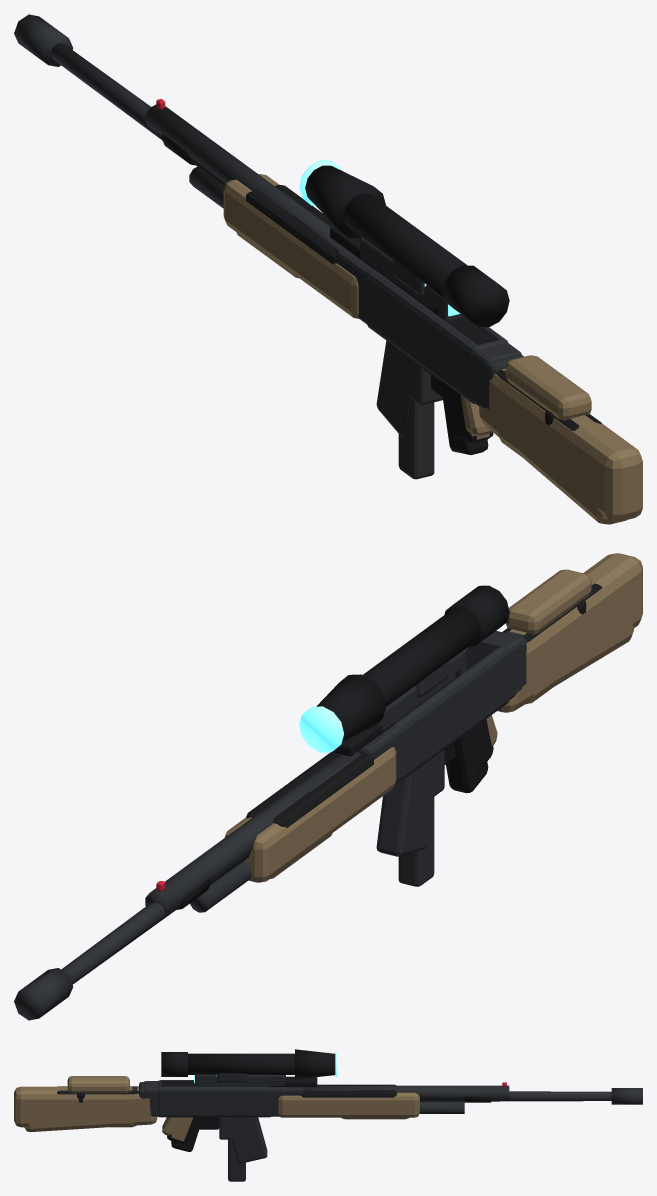
Rendered from weapons.glb.
3 views of the same model, one above another, from view 1: azimuth 30°, elevation 25°; view 2: azimuth 150°, elevation 25°; view 3: azimuth 270°, elevation 25° (orthographic). The views are drawn at different scales.
Visible parts, largest first — view 1: fp_sniper, fp_shotgun, fp_rifle, fp_smg, fp_pistol; view 2: fp_sniper, fp_shotgun, fp_rifle, fp_smg, fp_pistol; view 3: fp_sniper, fp_shotgun, fp_rifle, fp_smg, fp_pistol.
Boxes of the visible parts, x1,y1,x2,y2 form: fp_sniper: (14, 14, 642, 521); fp_shotgun: (145, 99, 626, 524); fp_rifle: (161, 134, 601, 442); fp_smg: (293, 212, 554, 479); fp_pistol: (422, 367, 488, 454); fp_sniper: (14, 553, 642, 1020); fp_shotgun: (145, 624, 633, 913); fp_rifle: (177, 583, 602, 909); fp_smg: (293, 600, 586, 886); fp_pistol: (444, 732, 488, 793); fp_sniper: (14, 1049, 642, 1141); fp_shotgun: (24, 1080, 509, 1137); fp_rifle: (57, 1073, 491, 1163); fp_smg: (77, 1074, 357, 1181); fp_pistol: (171, 1117, 219, 1151).
Bounding box in the file's own units: 0.068 × 0.319 × 1.41.
